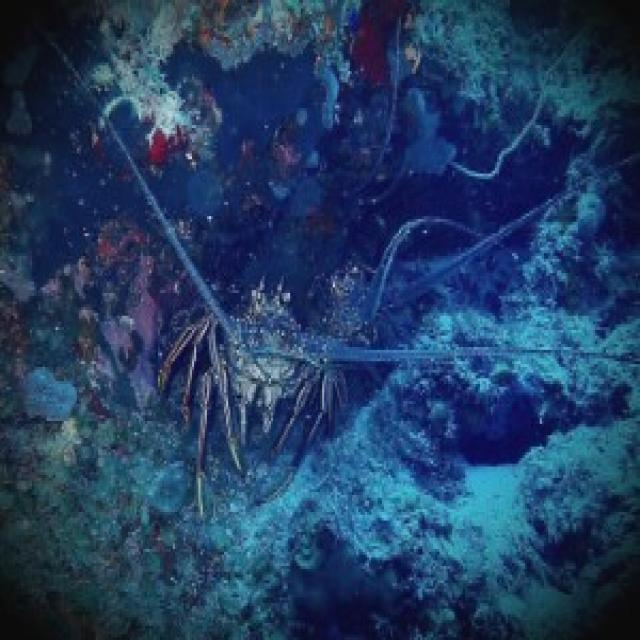lobsters: (122, 164, 435, 521)
